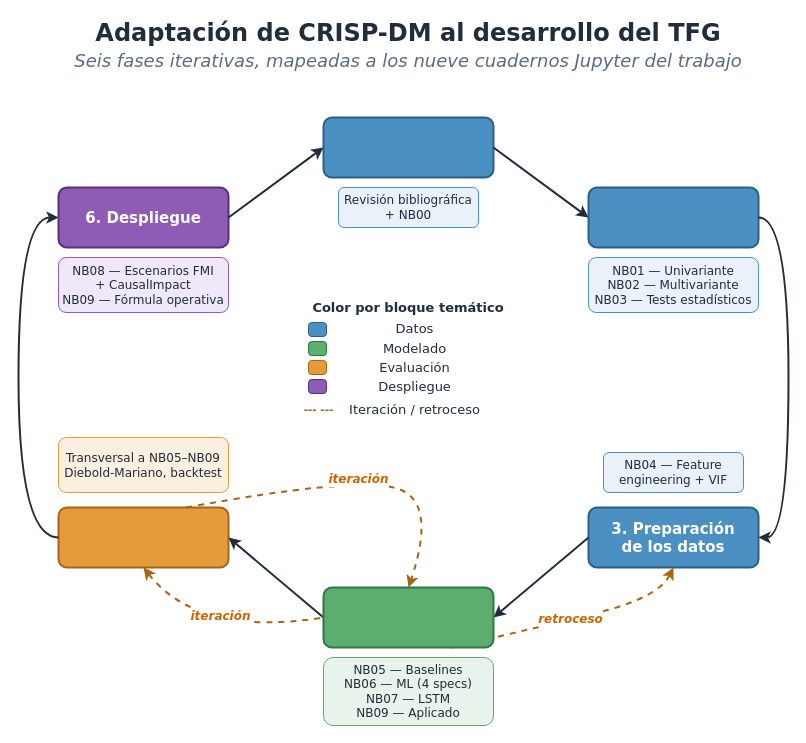
This 806x743 diagram has some shape labels left out. The shapes that lost their labels are listed below. From the top down, each one's centre as x and y in pixels, then its label:
At point (408, 147): "1. Comprensión del negocio".
At point (673, 217): "2. Comprensión de los datos".
At point (143, 537): "5. Evaluación".
At point (408, 617): "4. Modelado".
